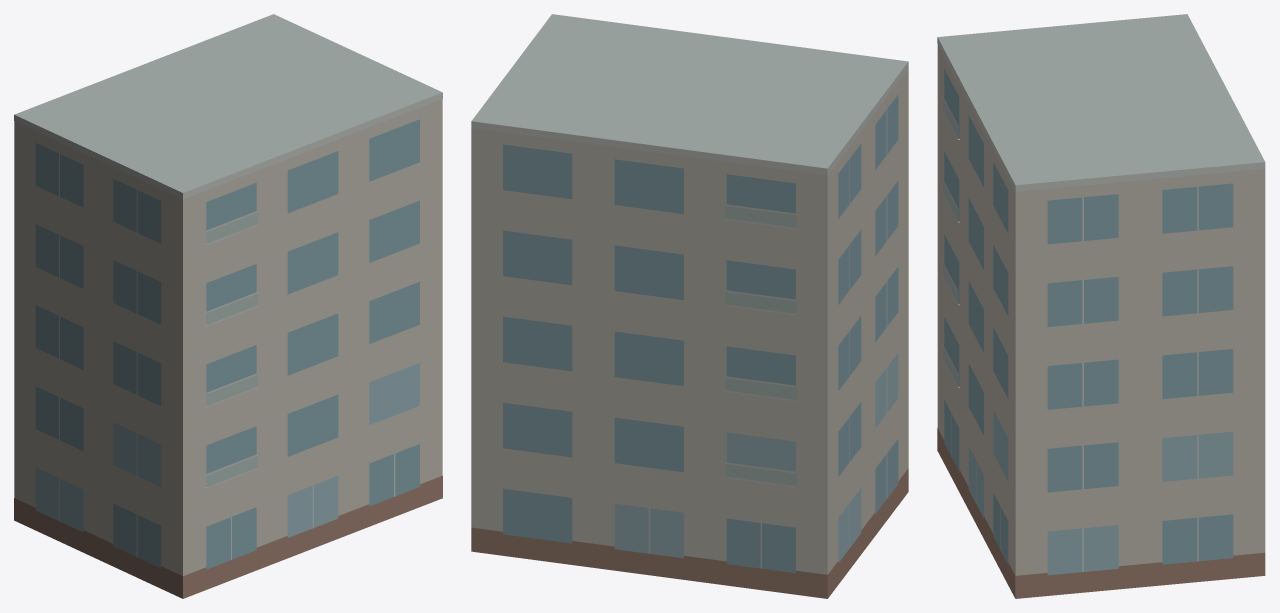
The model's file is survey-upis-32532899.glb.
3 renders of one model, left to right at view 1: azimuth 30°, elevation 25°; view 2: azimuth 150°, elevation 25°; view 3: azimuth 270°, elevation 25°, orthographic. The views are drawn at different scales.
Visible parts, largest first — view 1: survey-upis-32532899.tmp; view 2: survey-upis-32532899.tmp; view 3: survey-upis-32532899.tmp.
Boxes of the visible parts, <box> form: survey-upis-32532899.tmp: <box>14,14,442,598</box>; survey-upis-32532899.tmp: <box>471,14,908,598</box>; survey-upis-32532899.tmp: <box>937,14,1265,598</box>.
Bounding box in the file's own units: 13.59 × 15.3 × 11.
